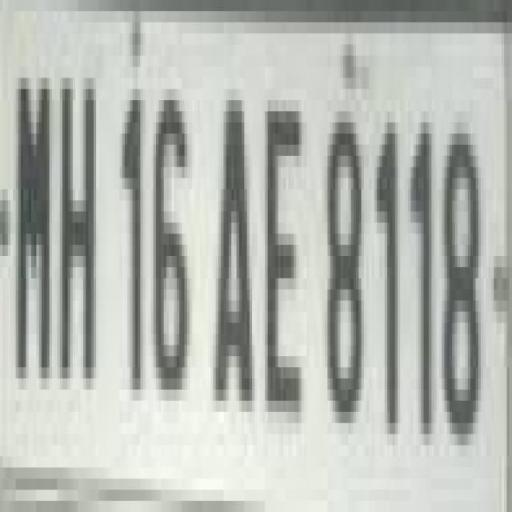number plate: (23, 0, 510, 512)
